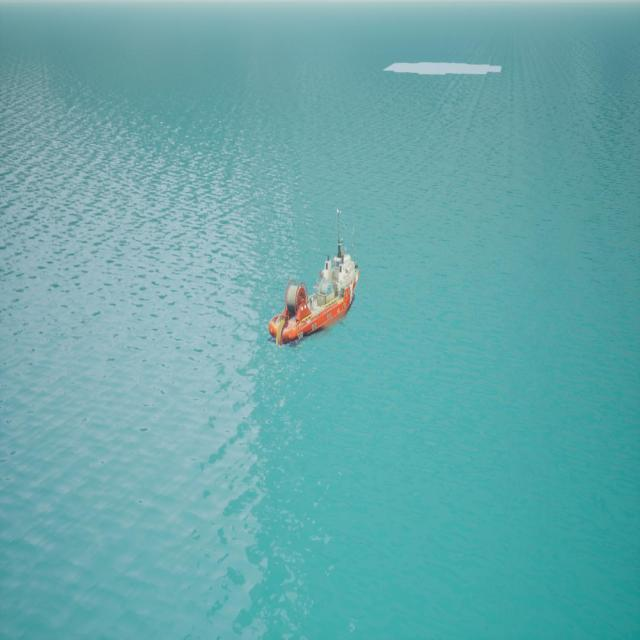tug boat: (270, 209, 360, 350)
